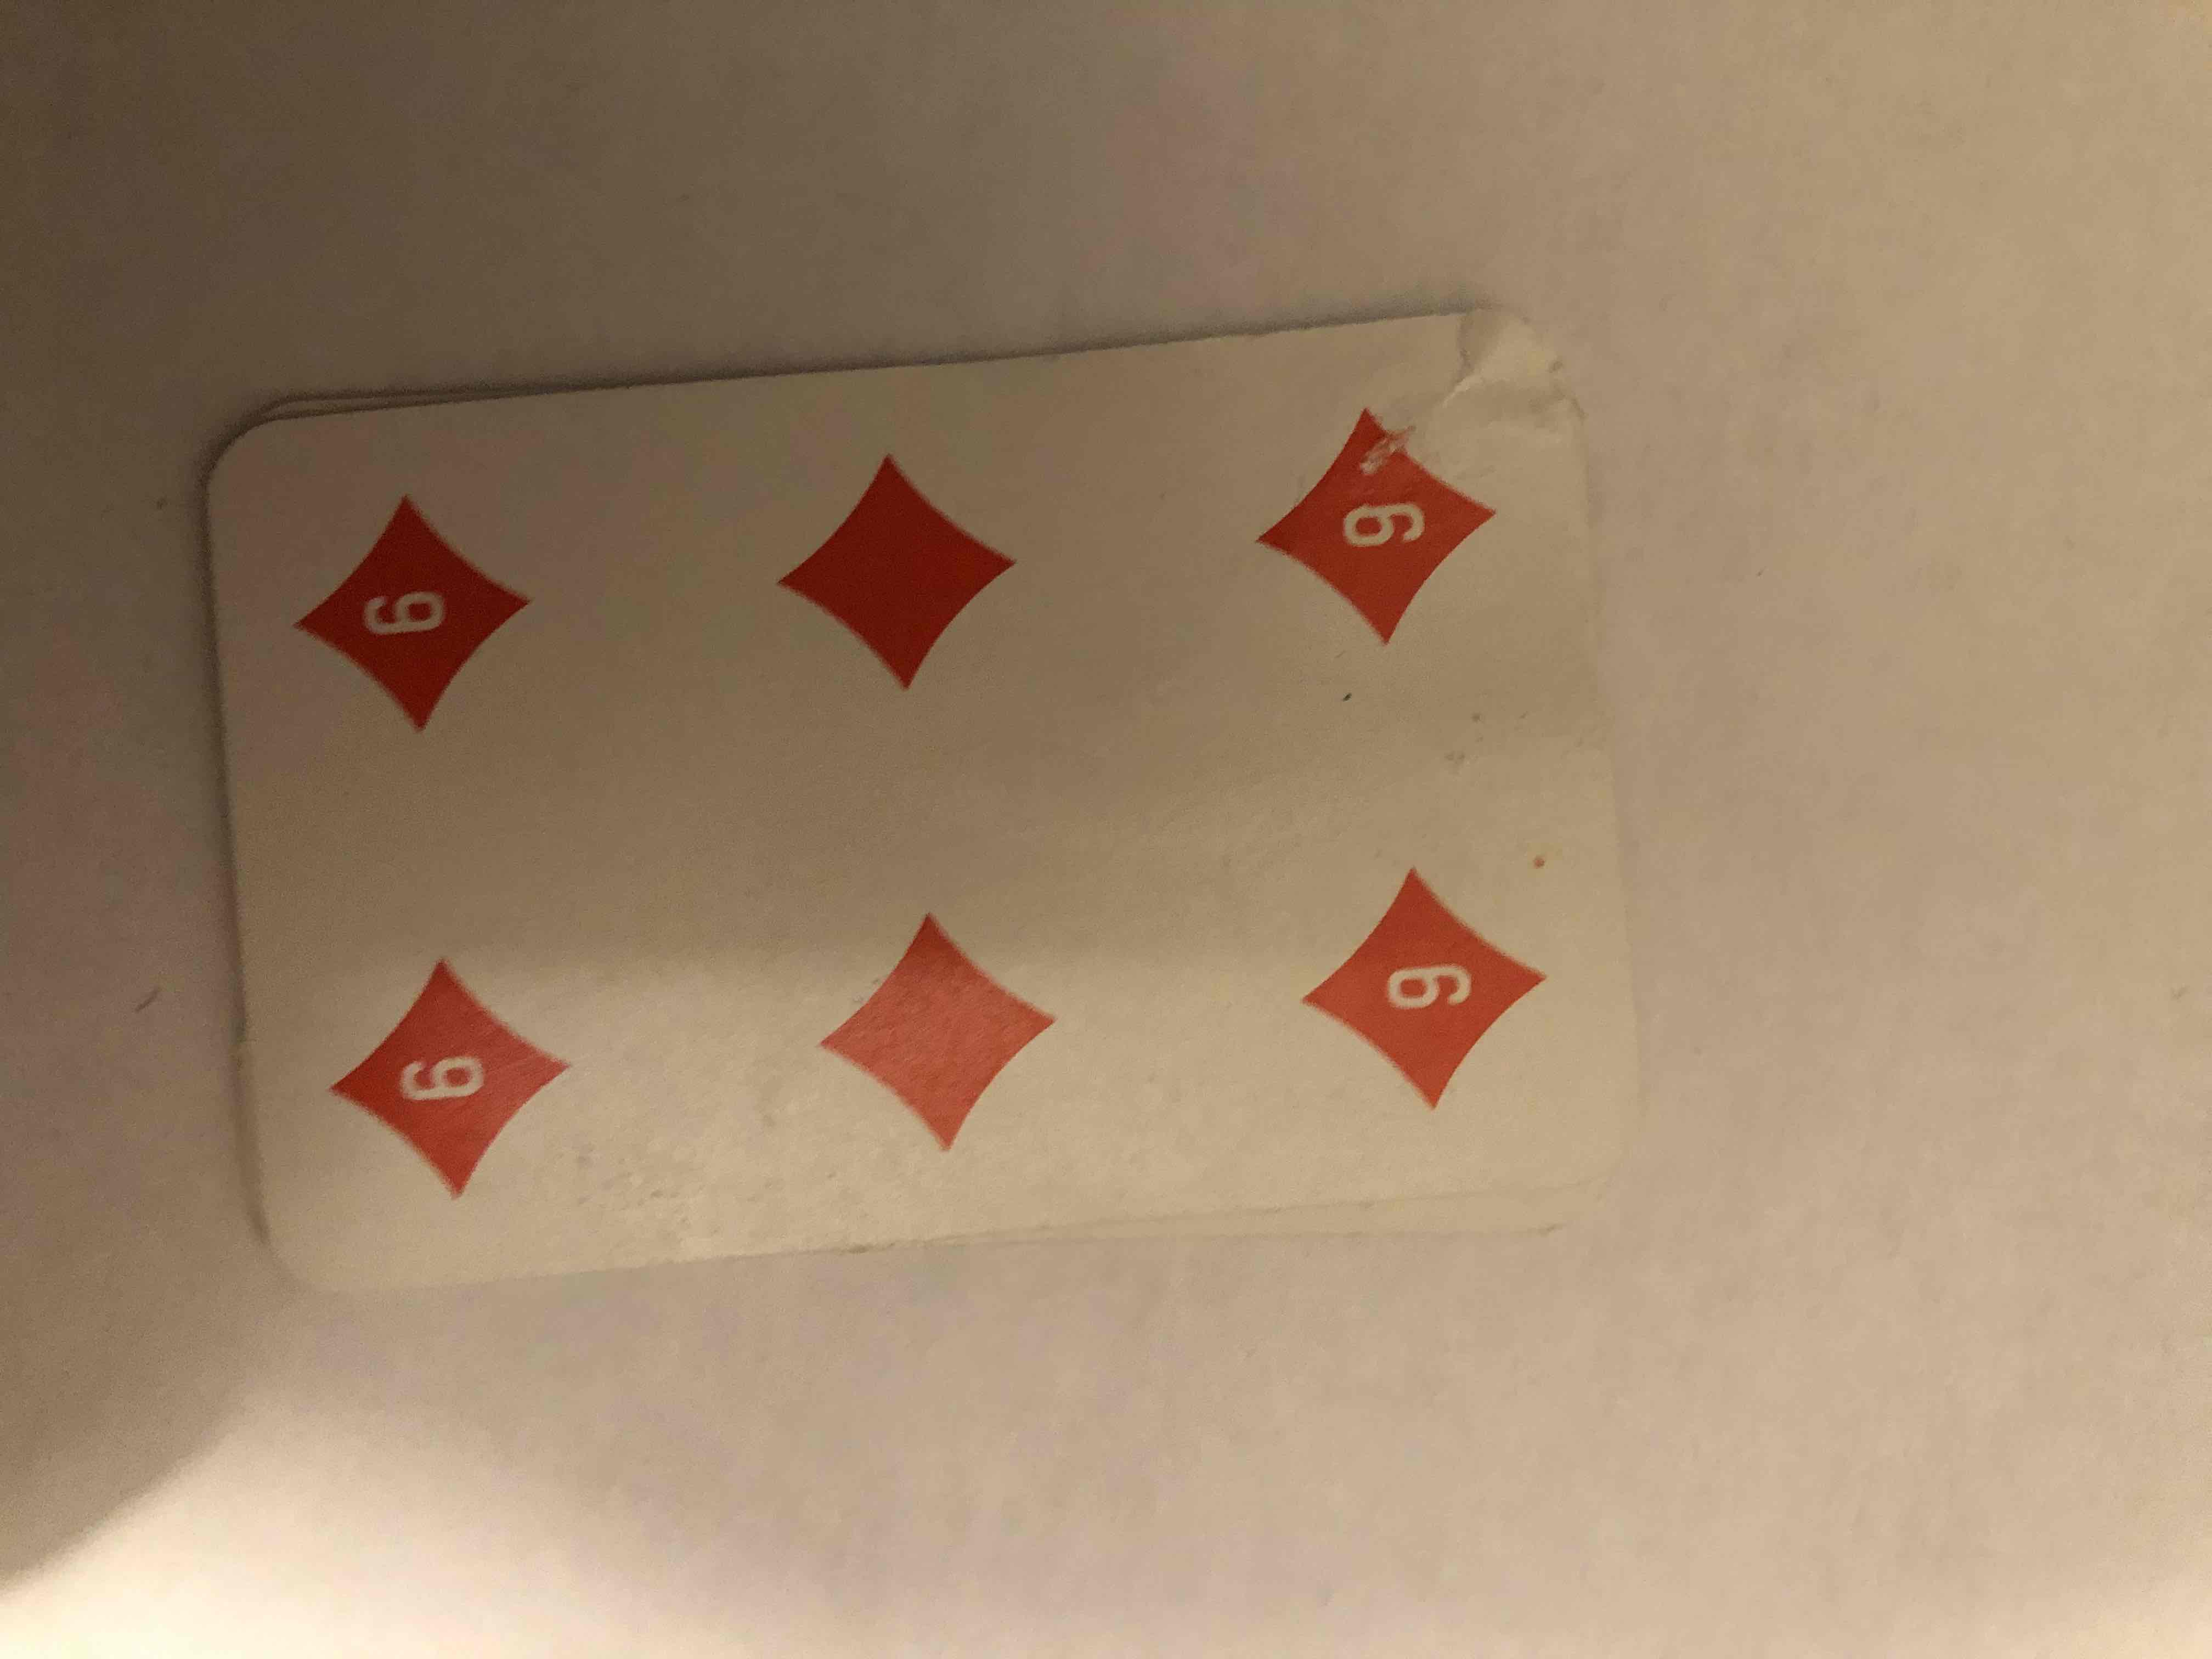diamond6: (254, 326, 1648, 1262)
